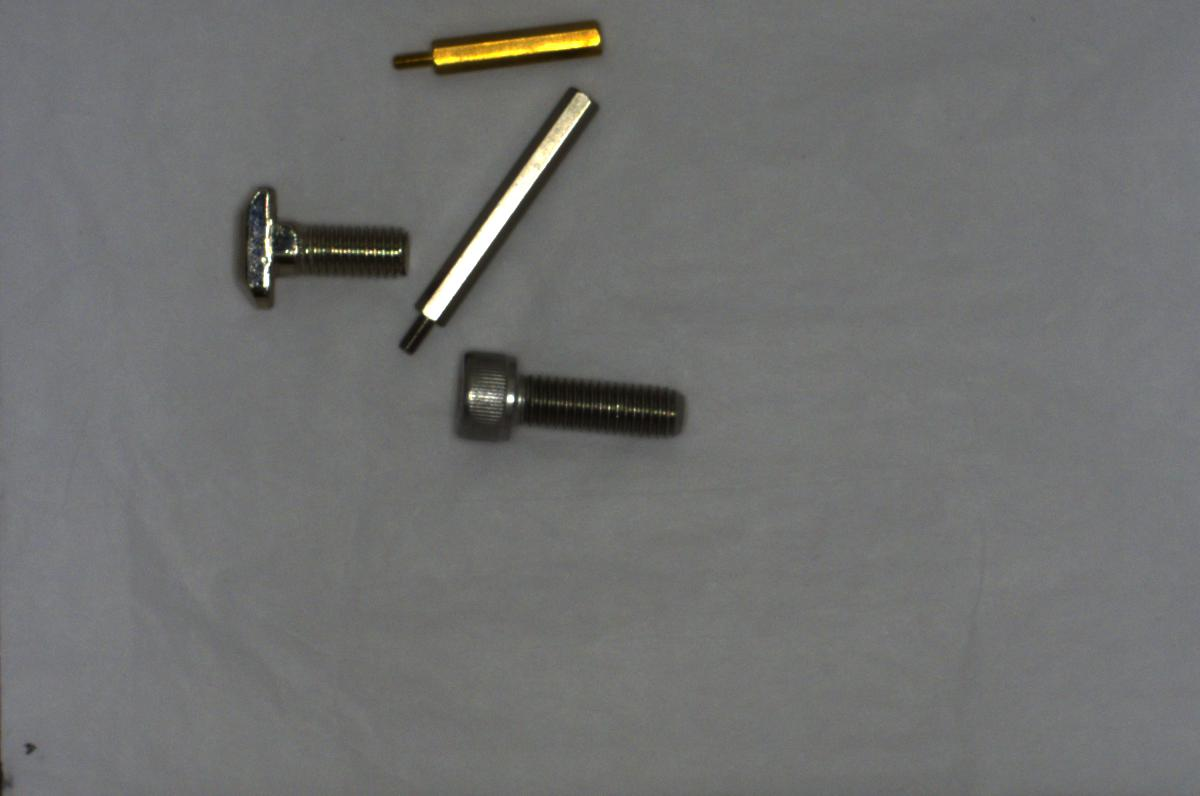Hexagon pillar: (391, 12, 608, 75)
Hexagon screw: (434, 346, 691, 455)
Hexagonal steel column: (385, 78, 607, 352)
T-shaped screw: (219, 175, 415, 307)
